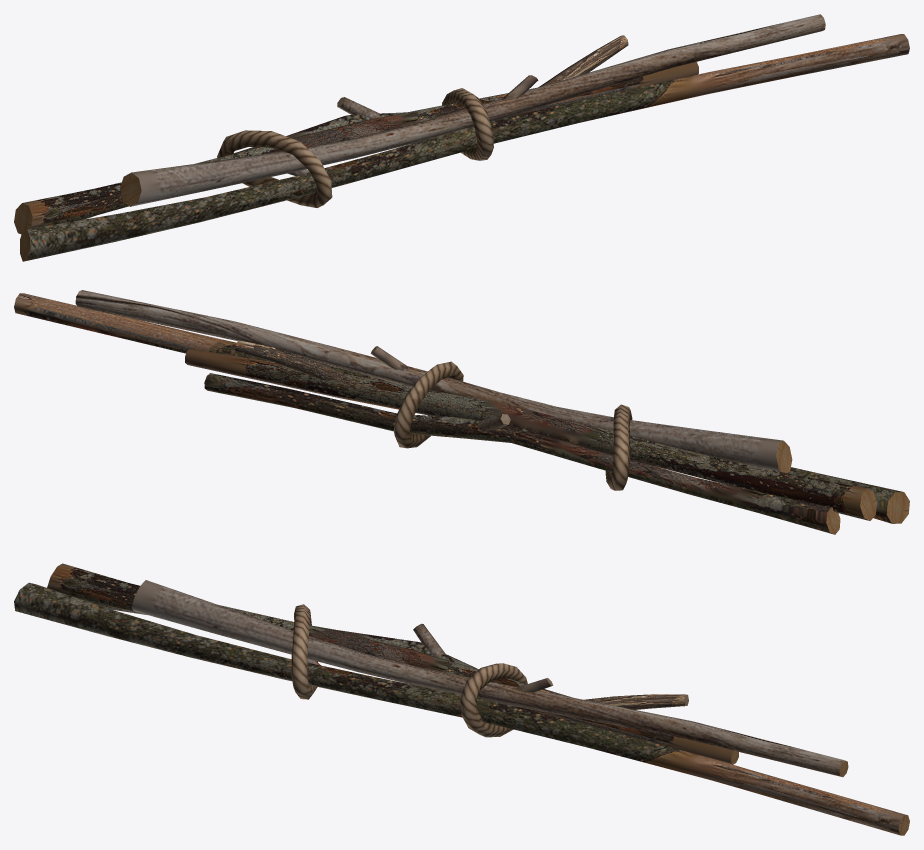
The model's file is village_wood_stick_05.fbx.
3 views of the same model, one above another, from view 1: azimuth 30°, elevation 25°; view 2: azimuth 150°, elevation 25°; view 3: azimuth 330°, elevation 25° (orthographic).
Parts seen in each view (by area): view 1: village_wood_stick_05; view 2: village_wood_stick_05; view 3: village_wood_stick_05.
Part boxes in pixels (x1=…): village_wood_stick_05: x1=14, y1=14, x2=909, y2=261; village_wood_stick_05: x1=14, y1=290, x2=909, y2=534; village_wood_stick_05: x1=14, y1=563, x2=909, y2=835.
Bounding box in the file's own units: 238 × 19.41 × 27.72.
